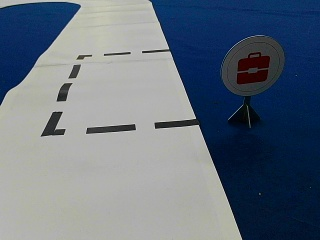company: (222, 35, 285, 95)
